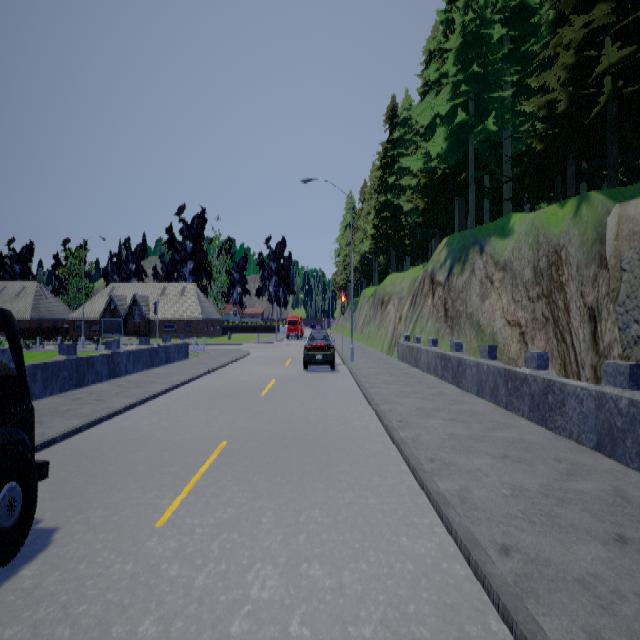vehicle: (0, 305, 49, 566), (302, 322, 334, 369), (283, 312, 304, 340)
